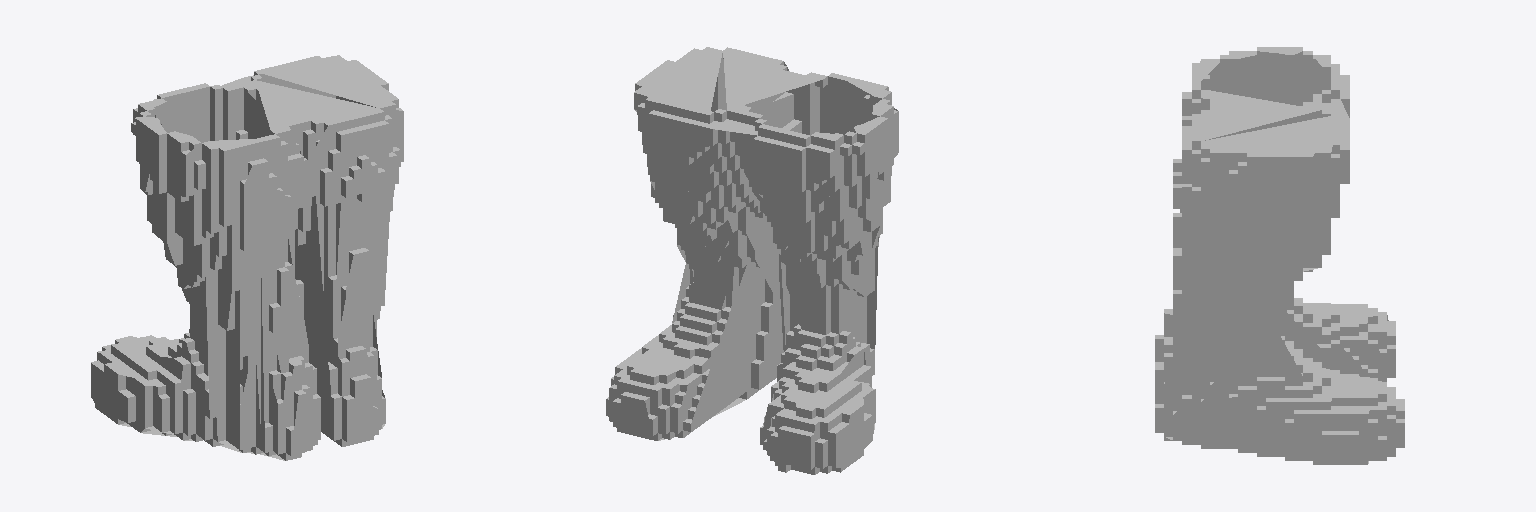
The model's file is Boots_Leather_Fur.obj.
3 views of the same model, side by side, from view 1: azimuth 30°, elevation 25°; view 2: azimuth 150°, elevation 25°; view 3: azimuth 270°, elevation 25° (orthographic).
Visible parts, largest first — view 1: Boots_Leather_Fur; view 2: Boots_Leather_Fur; view 3: Boots_Leather_Fur.
Boxes of the visible parts, x1=… form: Boots_Leather_Fur: x1=91, y1=55, x2=403, y2=460; Boots_Leather_Fur: x1=606, y1=47, x2=898, y2=474; Boots_Leather_Fur: x1=1155, y1=47, x2=1404, y2=464.
Bounding box in the file's own units: 0.29 × 0.37 × 0.27.